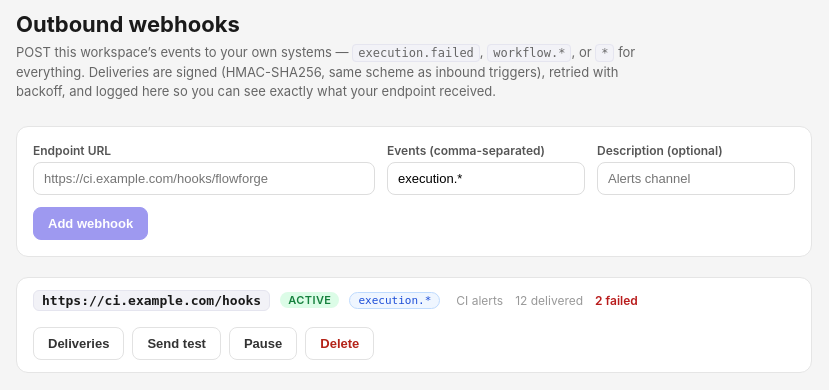
WebhooksPage › pauses a subscription via PATCH
Expected: the text "https://ci.example.com/hooks" is shown, [33, 290, 270, 310]
Click the button "Pause".
click(263, 343)  # box [229, 326, 297, 360]
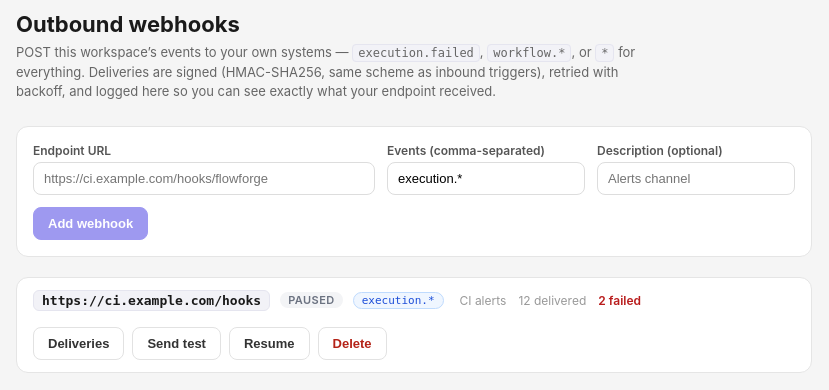
Result: the text "paused" is shown at [280, 292, 343, 308]
